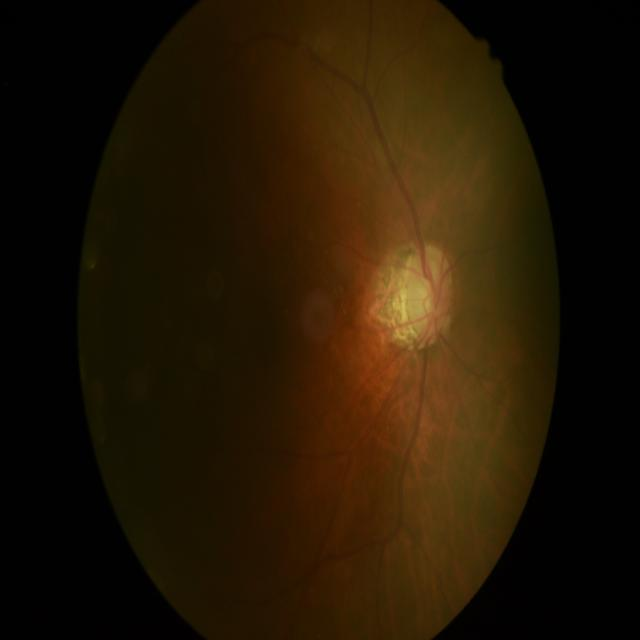cup: (407, 258, 440, 334)
disk: (400, 243, 452, 342)
